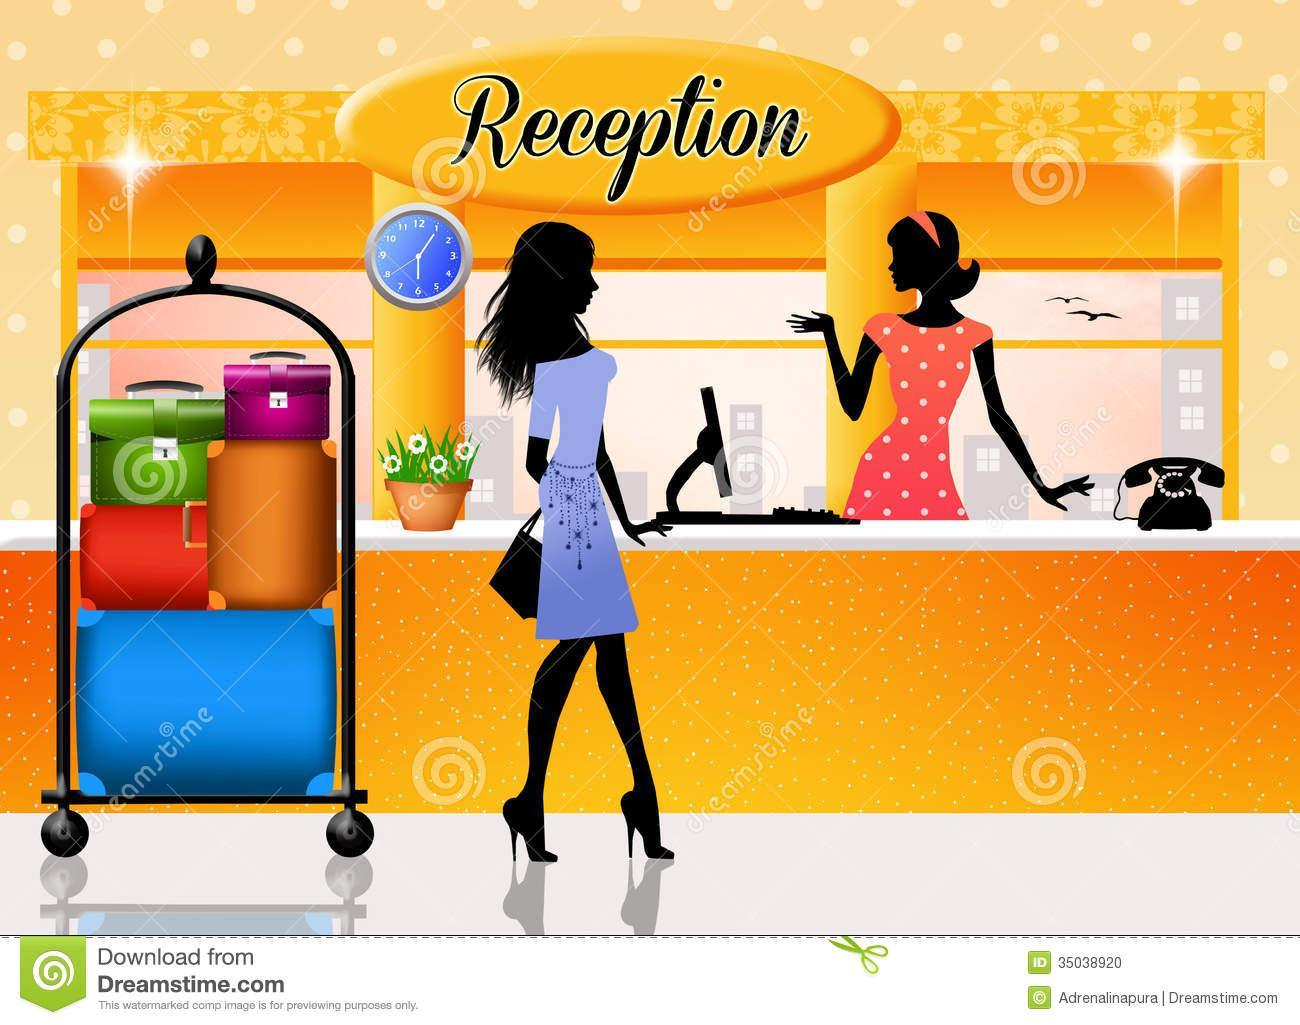person: (471, 209, 690, 872), (772, 212, 1096, 543)
pottedplant: (365, 416, 484, 530)
